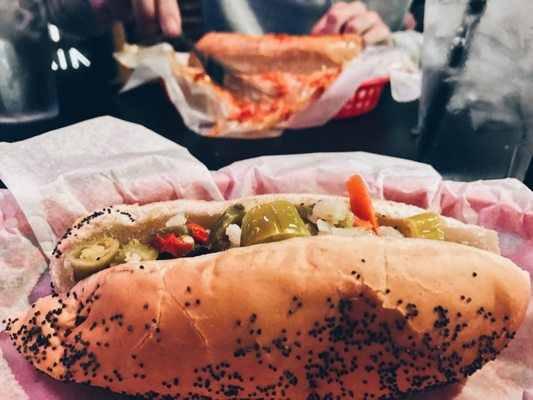soup: (166, 30, 365, 138)
